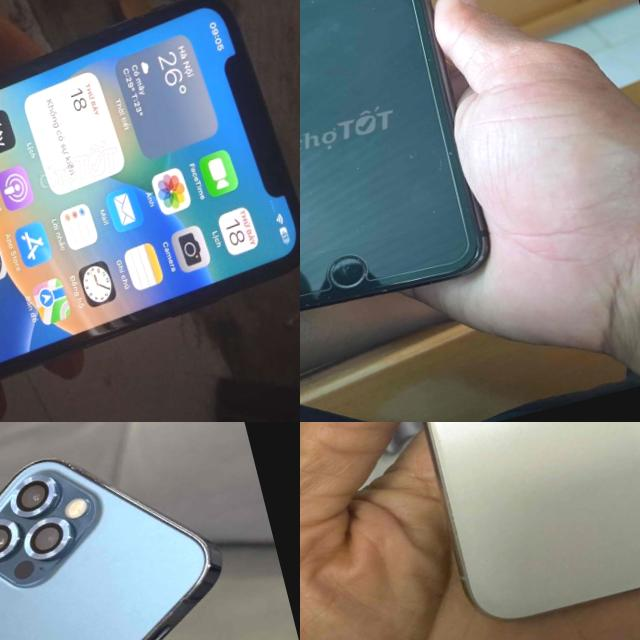gen_11: (325, 422, 640, 640)
gen_12_13: (0, 422, 291, 640)
gen_7_8: (300, 0, 503, 346)
gen_x_xs: (0, 0, 300, 416)
scratch: (428, 490, 484, 588), (326, 248, 366, 285)
